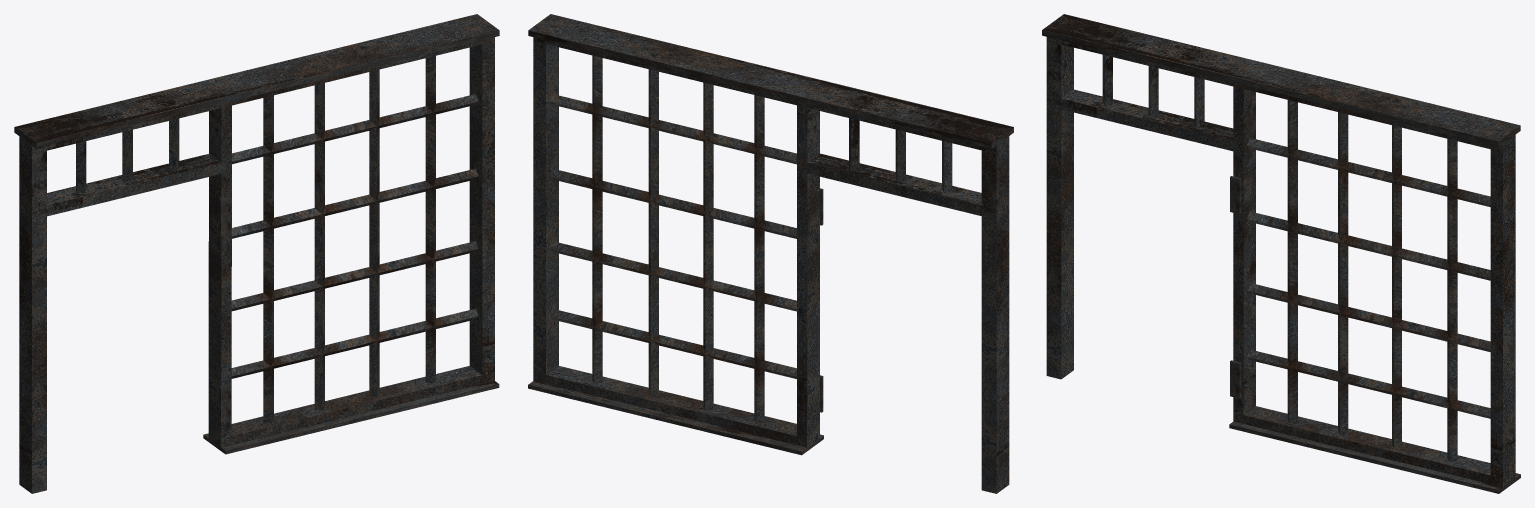
File: CellDoorway.fbx
3 renders of one model, left to right at view 1: azimuth 30°, elevation 25°; view 2: azimuth 150°, elevation 25°; view 3: azimuth 330°, elevation 25°, orthographic.
Parts seen in each view (by area): view 1: Mesh; view 2: Mesh; view 3: Mesh.
Boxes of the visible parts, x1,y1,x2,y2 form: Mesh: (14, 14, 499, 493); Mesh: (528, 14, 1013, 493); Mesh: (1042, 14, 1520, 493).
Size of the model in its own units: 3.86 by 2.85 by 0.3271.
